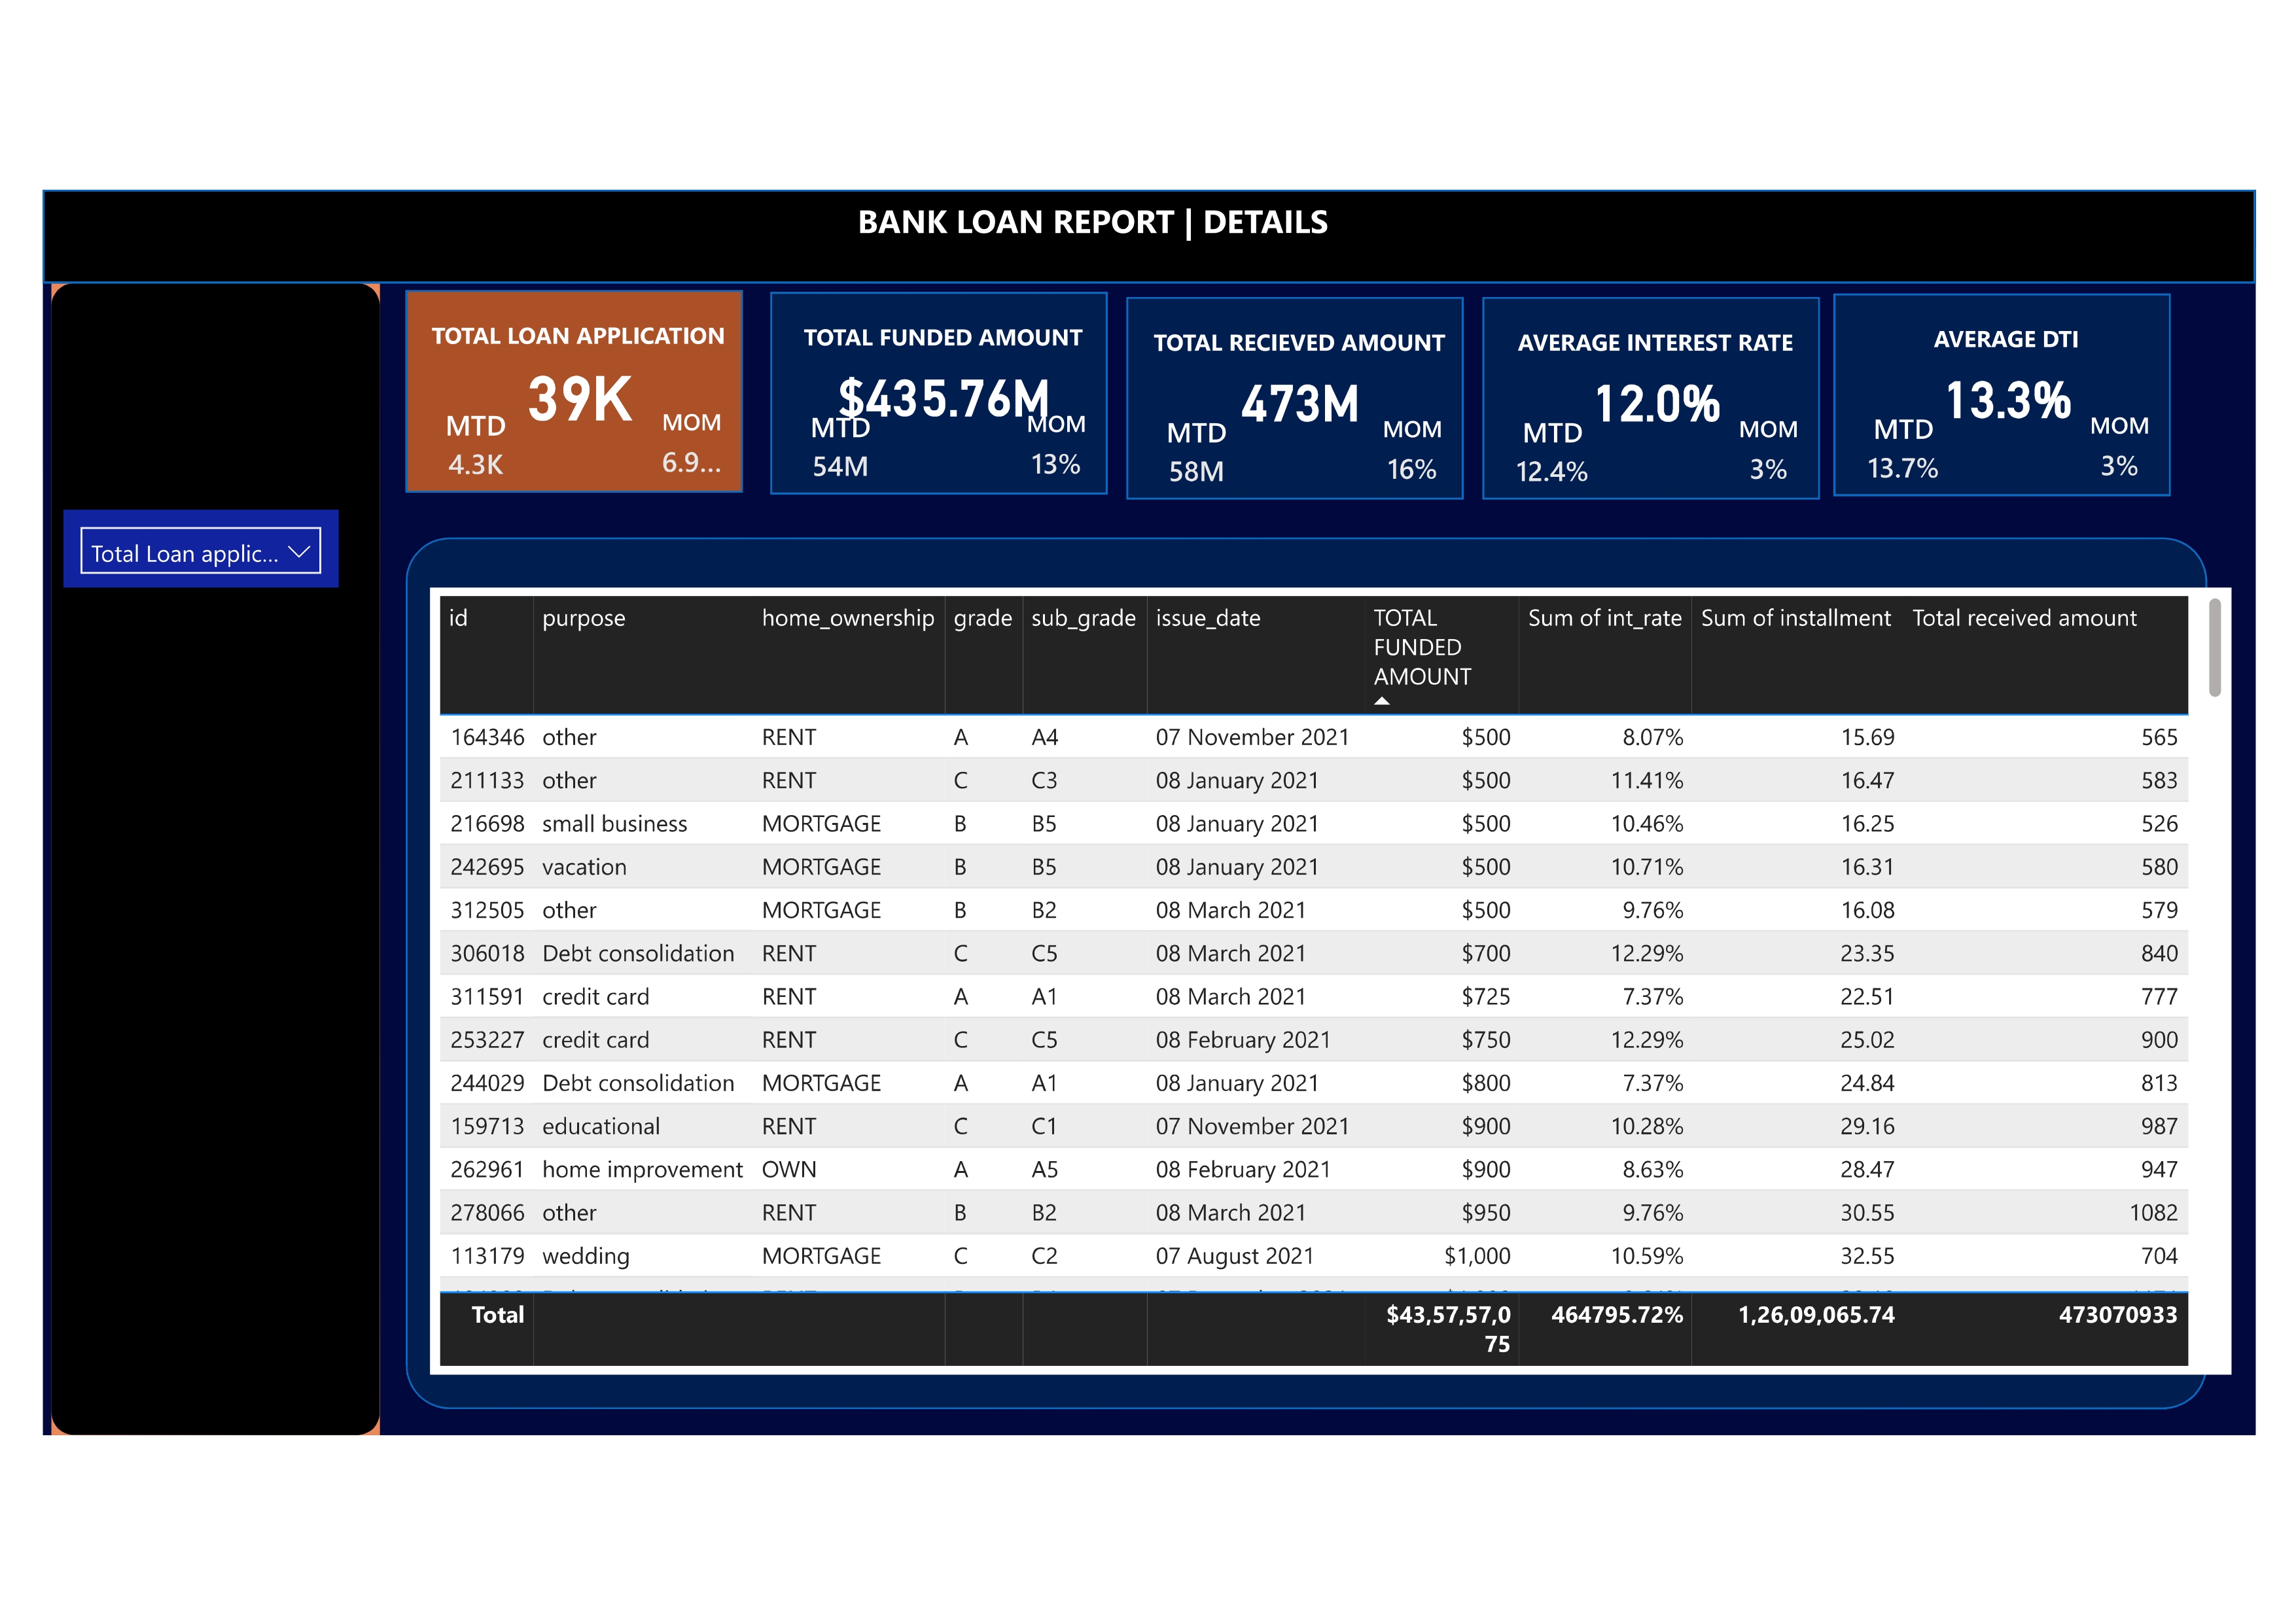

What the dashboard file says about the page in this screenshot:
{"tool":"powerbi","page":{"name":"DETAILS","canvas":[1280,720],"ordinal":2},"visuals":[{"type":"shape","box":[209.9,57.6,195,117],"z":0,"group":"g1"},{"type":"shape","box":[421.2,59,195,117],"z":0,"group":"g2"},{"type":"shape","box":[1036,60.4,195,117],"z":0,"group":"g5"},{"type":"shape","box":[627.1,61.7,195,117],"z":0,"group":"g3"},{"type":"shape","box":[832.9,61.7,195,117],"z":0,"group":"g4"},{"type":"shape","box":[209.9,201.5,1042.4,503.1],"z":0},{"type":"shape","box":[4.8,54.3,190.6,666],"z":1000},{"type":"group","id":"g1","title":"Group 1","box":[171.5,57.6,275.8,116.6],"z":2000},{"type":"group","id":"g2","title":"Group 1","box":[382.8,59,275.8,116.6],"z":3000},{"type":"textbox","box":[171.5,69.9,275.8,31.6],"z":3000,"group":"g1"},{"type":"textbox","box":[382.8,71.3,275.8,31.6],"z":3000,"group":"g2"},{"type":"textbox","box":[997.6,72.7,275.8,31.6],"z":3000,"group":"g5"},{"type":"textbox","box":[588.7,74,275.8,31.6],"z":3000,"group":"g3"},{"type":"textbox","box":[794.5,74,275.8,31.6],"z":3000,"group":"g4"},{"type":"group","id":"g3","title":"Group 1","box":[588.7,61.7,275.8,116.6],"z":4000},{"type":"card","fields":{"Values":["financial_loan.Total Loan application"]},"box":[222.3,85,175.6,64.5],"z":4000,"group":"g1"},{"type":"card","fields":{"Values":["financial_loan.TOTAL FUNDED AMOUNT"]},"box":[433.6,86.4,175.6,64.5],"z":4000,"group":"g2"},{"type":"card","fields":{"Values":["financial_loan.AVG DTI"]},"box":[1048.4,87.8,175.6,64.5],"z":4000,"group":"g5"},{"type":"card","fields":{"Values":["financial_loan.Total received amount"]},"box":[639.5,89.1,175.6,64.5],"z":4000,"group":"g3"},{"type":"card","fields":{"Values":["financial_loan.Average interest rate"]},"box":[845.3,89.1,175.6,64.5],"z":4000,"group":"g4"},{"type":"group","id":"g4","title":"Group 1","box":[794.5,61.7,275.8,116.6],"z":5000},{"type":"card","title":"MTD","fields":{"Values":["financial_loan.MTD LOAN APPLICATIONS"]},"box":[222.3,124.8,54.9,49.4],"z":5000,"group":"g1"},{"type":"card","title":"MTD","fields":{"Values":["financial_loan.MTD FUNDED AMOUNT"]},"box":[433.6,126.2,54.9,49.4],"z":5000,"group":"g2"},{"type":"card","title":"MTD","fields":{"Values":["financial_loan.MTD Average DTI"]},"box":[1048.4,127.6,54.9,49.4],"z":5000,"group":"g5"},{"type":"card","title":"MTD","fields":{"Values":["financial_loan.MTD total recived amount"]},"box":[639.5,128.9,54.9,49.4],"z":5000,"group":"g3"},{"type":"card","title":"MTD","fields":{"Values":["financial_loan.MTD Average interest rate"]},"box":[845.3,128.9,54.9,49.4],"z":5000,"group":"g4"},{"type":"group","id":"g5","title":"Group 1","box":[997.6,60.4,275.8,116.6],"z":6000},{"type":"card","title":"MOM","fields":{"Values":["financial_loan.MOM Loan application"]},"box":[352.6,124.8,45.3,49.4],"z":6000,"group":"g1"},{"type":"card","title":"MOM","fields":{"Values":["financial_loan.MOM FUNDED AMOUNT"]},"box":[563.9,126.2,45.3,49.4],"z":6000,"group":"g2"},{"type":"card","title":"MOM","fields":{"Values":["financial_loan.MOM AVG DTI"]},"box":[1178.7,127.6,45.3,49.4],"z":6000,"group":"g5"},{"type":"card","title":"MOM","fields":{"Values":["financial_loan.MOM RECIEVED AMOUNT"]},"box":[769.8,128.9,45.3,49.4],"z":6000,"group":"g3"},{"type":"card","title":"MOM","fields":{"Values":["financial_loan.MOM AVERAGE INTEREST RATE"]},"box":[975.6,128.9,45.3,49.4],"z":6000,"group":"g4"},{"type":"slicer","fields":{"Values":["Select measure.Select measure"]},"box":[12.1,184.6,159.3,45.8],"z":7000},{"type":"shape","box":[0,0,1280,54.3],"z":8000},{"type":"textbox","box":[427.1,0,360.7,49.5],"z":9000},{"type":"tableEx","fields":{"Values":["financial_loan.id","financial_loan.purpose","financial_loan.home_ownership","financial_loan.grade","financial_loan.sub_grade","financial_loan.issue_date","financial_loan.TOTAL FUNDED AMOUNT","Sum(financial_loan.int_rate)","Sum(financial_loan.installment)","financial_loan.Total received amount"]},"box":[224.4,230.4,1041.2,454.8],"z":10000}]}

Visuals, with their boxes on the page's 1280x720 design canvas (x1, y1, x2, y2). These are canvas units, not pixel positions in the 2296x1623 screenshot, which may show the page scaled, cropped or inside an application window:
shape: BBox(210, 58, 405, 175)
shape: BBox(421, 59, 616, 176)
shape: BBox(1036, 60, 1231, 177)
shape: BBox(627, 62, 822, 179)
shape: BBox(833, 62, 1028, 179)
shape: BBox(210, 202, 1252, 705)
shape: BBox(5, 54, 195, 720)
"Group 1" group: BBox(172, 58, 447, 174)
"Group 1" group: BBox(383, 59, 659, 176)
textbox: BBox(172, 70, 447, 102)
textbox: BBox(383, 71, 659, 103)
textbox: BBox(998, 73, 1273, 104)
textbox: BBox(589, 74, 864, 106)
textbox: BBox(794, 74, 1070, 106)
"Group 1" group: BBox(589, 62, 864, 178)
card - financial_loan.Total Loan application: BBox(222, 85, 398, 150)
card - financial_loan.TOTAL FUNDED AMOUNT: BBox(434, 86, 609, 151)
card - financial_loan.AVG DTI: BBox(1048, 88, 1224, 152)
card - financial_loan.Total received amount: BBox(640, 89, 815, 154)
card - financial_loan.Average interest rate: BBox(845, 89, 1021, 154)
"Group 1" group: BBox(794, 62, 1070, 178)
"MTD" card: BBox(222, 125, 277, 174)
"MTD" card: BBox(434, 126, 488, 176)
"MTD" card: BBox(1048, 128, 1103, 177)
"MTD" card: BBox(640, 129, 694, 178)
"MTD" card: BBox(845, 129, 900, 178)
"Group 1" group: BBox(998, 60, 1273, 177)
"MOM" card: BBox(353, 125, 398, 174)
"MOM" card: BBox(564, 126, 609, 176)
"MOM" card: BBox(1179, 128, 1224, 177)
"MOM" card: BBox(770, 129, 815, 178)
"MOM" card: BBox(976, 129, 1021, 178)
slicer - Select measure.Select measure: BBox(12, 185, 171, 230)
shape: BBox(0, 0, 1280, 54)
textbox: BBox(427, 0, 788, 50)
tableEx - financial_loan.id x financial_loan.purpose: BBox(224, 230, 1266, 685)
